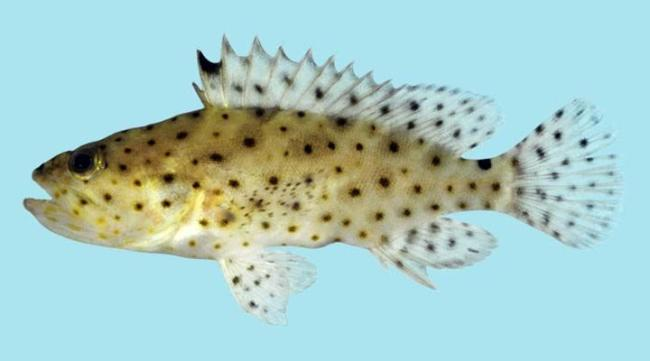fish: (23, 31, 622, 327)
